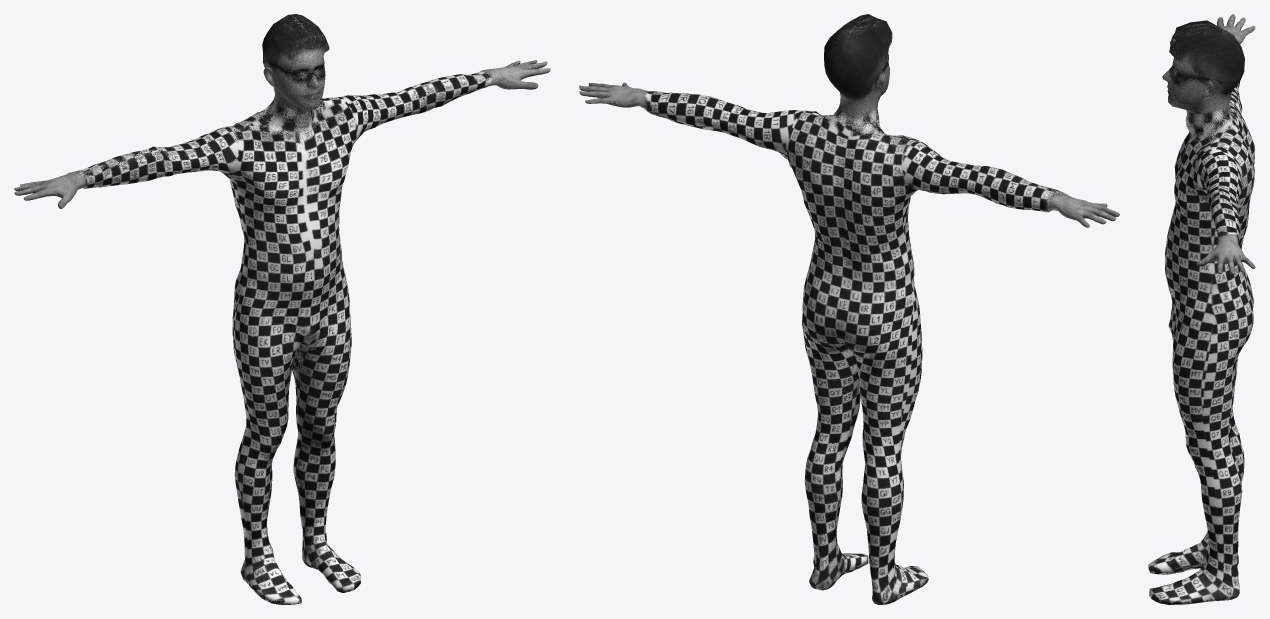
Rendered from SMPLWithSocks.obj.
The picture shows the model from 3 angles, left to right: view 1: azimuth 30°, elevation 25°; view 2: azimuth 150°, elevation 25°; view 3: azimuth 270°, elevation 25°; orthographic projection.
Parts seen in each view (by area): view 1: m_avg_Mesh; view 2: m_avg_Mesh; view 3: m_avg_Mesh.
Boxes of the visible parts, bbox=[...] form: m_avg_Mesh: bbox=[14, 14, 550, 604]; m_avg_Mesh: bbox=[579, 14, 1119, 604]; m_avg_Mesh: bbox=[1148, 14, 1255, 604].
Bounding box in the file's own units: 1795 × 1810 × 314.
Materials: 1 (1 with a texture image).
